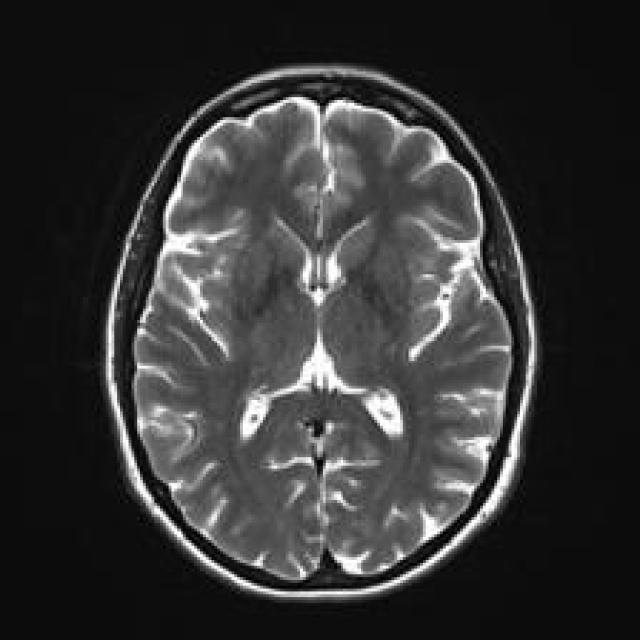no_tumor: (92, 57, 542, 615)
